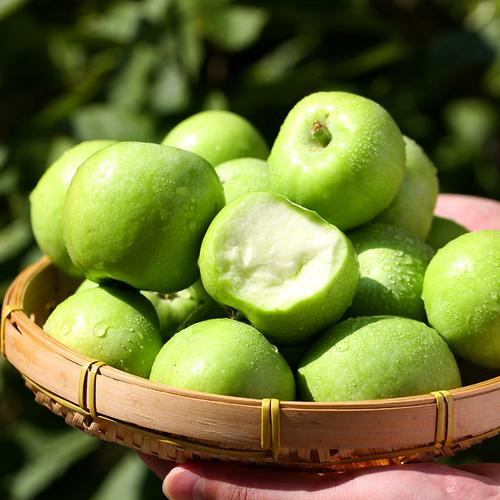unripe: (51, 136, 230, 288), (286, 309, 474, 418), (264, 87, 407, 226), (144, 314, 292, 426), (32, 288, 157, 390), (420, 219, 500, 374)
